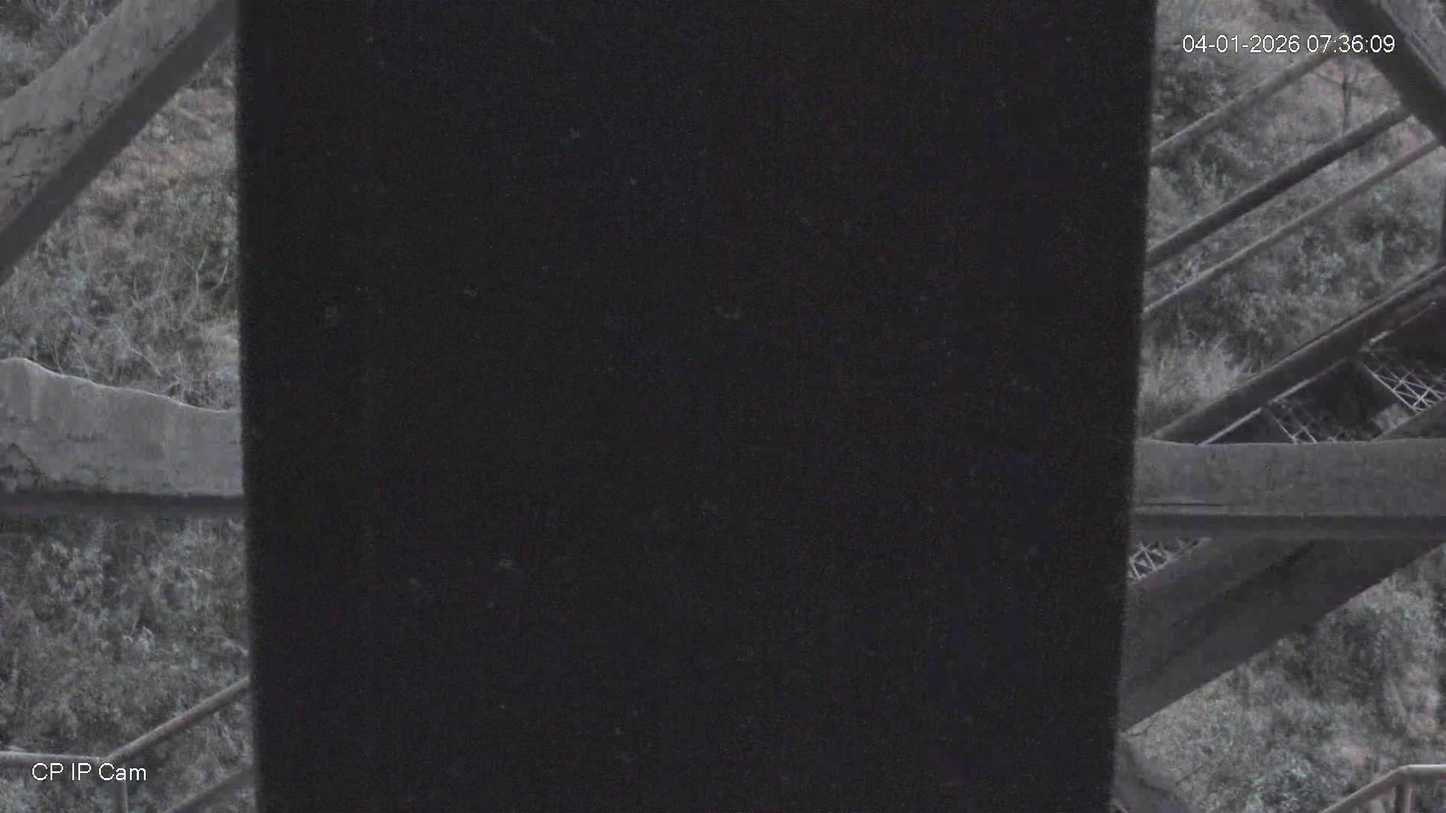belt_roi: (237, 0, 1148, 813)
